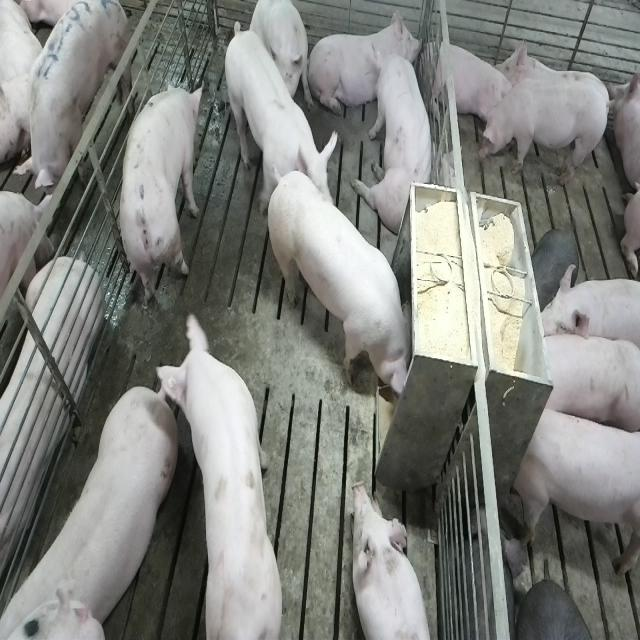Feeding: (270, 170, 422, 402)
Sitting: (358, 53, 438, 234)
Standing: (5, 379, 182, 635), (154, 309, 280, 638), (17, 0, 131, 205), (223, 22, 340, 216), (512, 397, 639, 575), (118, 78, 205, 312), (478, 81, 612, 189), (533, 328, 637, 434), (532, 263, 637, 366)
Sternal_lying: (0, 244, 101, 585), (350, 481, 432, 640), (310, 15, 426, 119), (428, 33, 510, 133)
